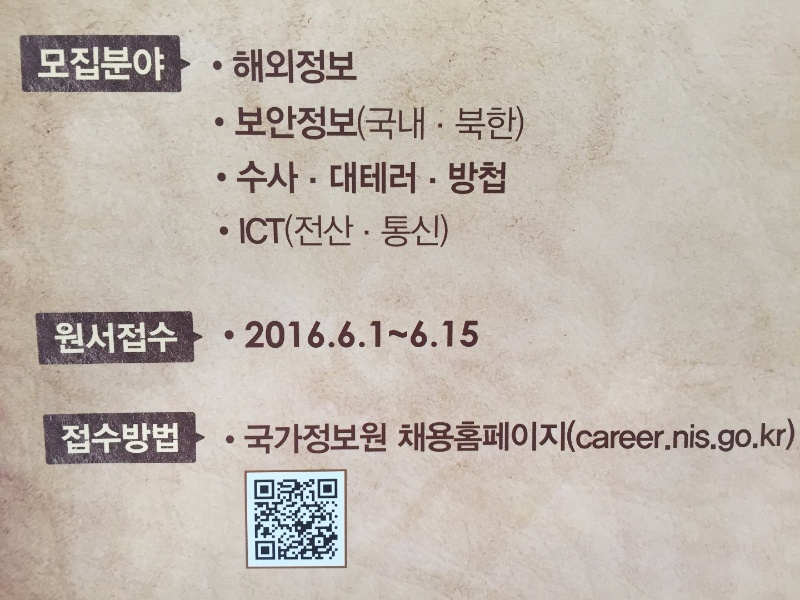text: (241, 48, 256, 88), (257, 48, 272, 88), (273, 48, 288, 88), (289, 48, 304, 88), (305, 48, 320, 88), (321, 48, 336, 88), (337, 48, 352, 88), (577, 417, 592, 456), (593, 417, 608, 456), (609, 417, 624, 456), (625, 417, 640, 456), (641, 417, 656, 456), (657, 417, 672, 456), (673, 417, 688, 456), (689, 417, 704, 456), (705, 417, 720, 456), (721, 417, 736, 456), (737, 417, 752, 456), (753, 417, 768, 456), (769, 417, 784, 456), (369, 105, 384, 143), (385, 105, 400, 143), (401, 105, 416, 143), (465, 106, 480, 143), (481, 106, 496, 143), (497, 106, 512, 143), (257, 421, 272, 457), (273, 421, 288, 457), (289, 421, 304, 457), (305, 421, 320, 457), (321, 421, 336, 457), (337, 421, 352, 457), (353, 421, 368, 457), (369, 421, 384, 457), (401, 419, 416, 455), (417, 419, 432, 455), (433, 419, 448, 455), (449, 419, 464, 455), (465, 419, 480, 455), (481, 419, 496, 455), (497, 419, 512, 455), (513, 419, 528, 455), (529, 419, 544, 455), (545, 419, 560, 455), (49, 46, 64, 82), (65, 46, 80, 82), (81, 46, 96, 82), (97, 46, 112, 82), (113, 46, 128, 82), (129, 46, 144, 82), (145, 46, 160, 82), (241, 105, 256, 141), (257, 105, 272, 141), (273, 105, 288, 141), (289, 105, 304, 141), (305, 105, 320, 141), (321, 105, 336, 141), (337, 105, 352, 141), (257, 317, 272, 352), (273, 317, 288, 352), (289, 317, 304, 352), (305, 317, 320, 352), (321, 317, 336, 352), (337, 317, 352, 352), (353, 317, 368, 352), (369, 317, 384, 352), (385, 317, 400, 352), (401, 317, 416, 352), (417, 317, 432, 352), (433, 317, 448, 352), (449, 317, 464, 352), (465, 317, 480, 352), (449, 161, 464, 196), (465, 161, 480, 196), (481, 161, 496, 196), (289, 214, 304, 249), (305, 214, 320, 249), (321, 214, 336, 249), (337, 214, 352, 249), (385, 215, 400, 250), (401, 215, 416, 250), (417, 215, 432, 250), (433, 215, 448, 250), (65, 321, 80, 355), (81, 321, 96, 355), (97, 321, 112, 355), (113, 321, 128, 355), (129, 321, 144, 355), (145, 321, 160, 355), (161, 321, 176, 355), (241, 161, 256, 195), (257, 161, 272, 195), (273, 161, 288, 195), (242, 421, 256, 457), (65, 422, 80, 455), (81, 422, 96, 455), (97, 422, 112, 455), (113, 422, 128, 455), (129, 422, 144, 455), (145, 422, 160, 455), (161, 422, 176, 455), (337, 162, 352, 195), (353, 162, 368, 195), (369, 162, 384, 195), (385, 162, 400, 195), (401, 162, 416, 195), (355, 105, 368, 143), (513, 106, 526, 143), (241, 217, 256, 246), (257, 217, 272, 246), (785, 417, 796, 456), (566, 417, 576, 456), (245, 317, 256, 352), (273, 217, 286, 246), (454, 106, 464, 143), (38, 46, 48, 82), (497, 161, 507, 196), (417, 105, 426, 143), (54, 321, 64, 355), (289, 161, 299, 195), (232, 48, 240, 88), (329, 162, 336, 195), (561, 419, 567, 455), (353, 48, 358, 88), (161, 46, 166, 82), (353, 105, 358, 141), (379, 215, 384, 250), (59, 422, 64, 455), (236, 105, 240, 141), (353, 214, 357, 249), (236, 161, 240, 195), (385, 421, 388, 457), (397, 419, 400, 455), (449, 215, 451, 250), (177, 321, 179, 355), (177, 422, 179, 455), (287, 214, 288, 249), (239, 217, 240, 246)
